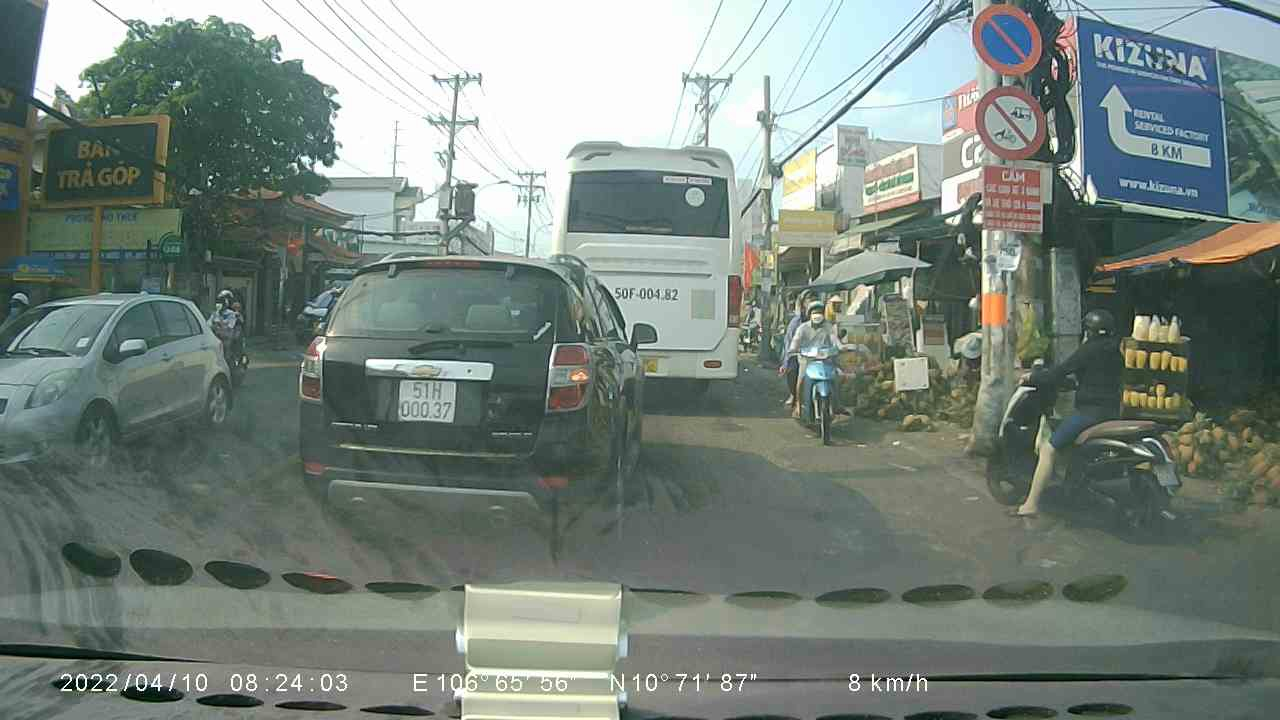Bien khac: (973, 84, 1049, 160)
Cam do xe: (966, 3, 1050, 77)
